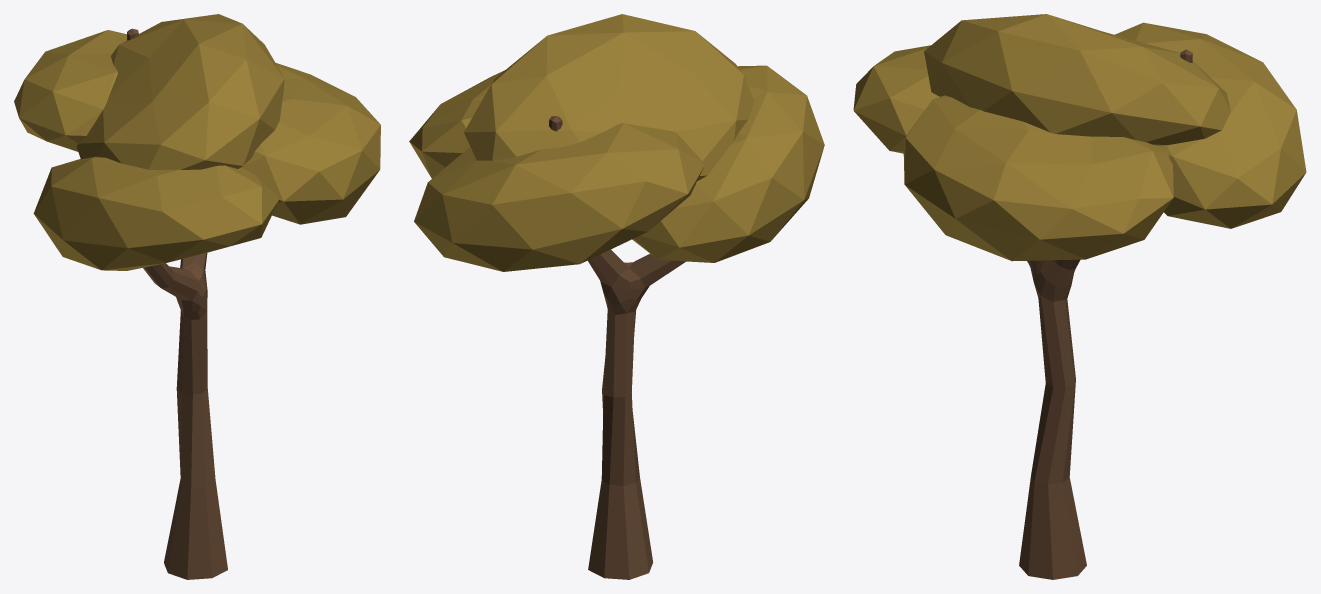
File: Tree_Oak_2.fbx
3 views of the same model, side by side, from view 1: azimuth 30°, elevation 25°; view 2: azimuth 150°, elevation 25°; view 3: azimuth 270°, elevation 25° (orthographic). The views are drawn at different scales.
Visible parts, largest first — view 1: Oak2; view 2: Oak2; view 3: Oak2.
Part boxes in pixels (x1=…): Oak2: x1=14, y1=14, x2=380, y2=579; Oak2: x1=409, y1=14, x2=824, y2=579; Oak2: x1=853, y1=14, x2=1306, y2=579.
Size of the model in its own units: 3.64 by 5.49 by 4.09.
